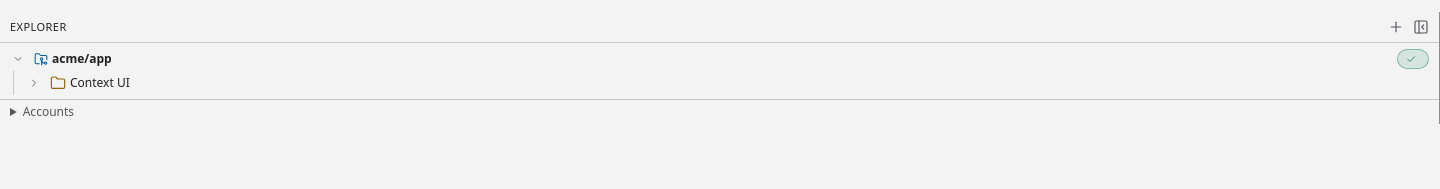
Test: Explorer repository context gating › labels unnamed sessions by their stable creation sequence, not tree position
Click the button named "Expand Context UI". click: (34, 83)
box: [22,71,46,95]
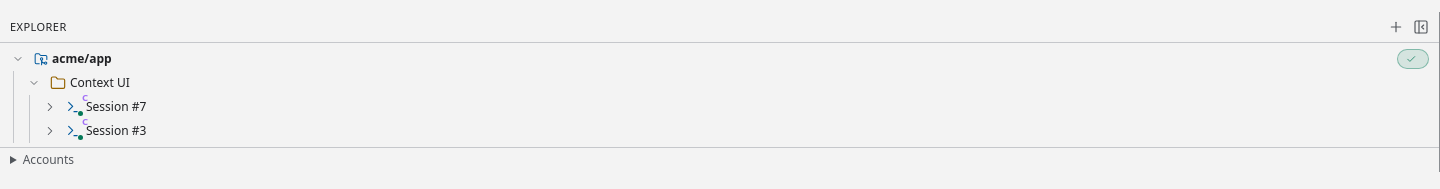
Check: the text "Session #7" is shown, box [86,99,146,115]
Check: the text "Session #3" is shown, box [86,123,146,139]
